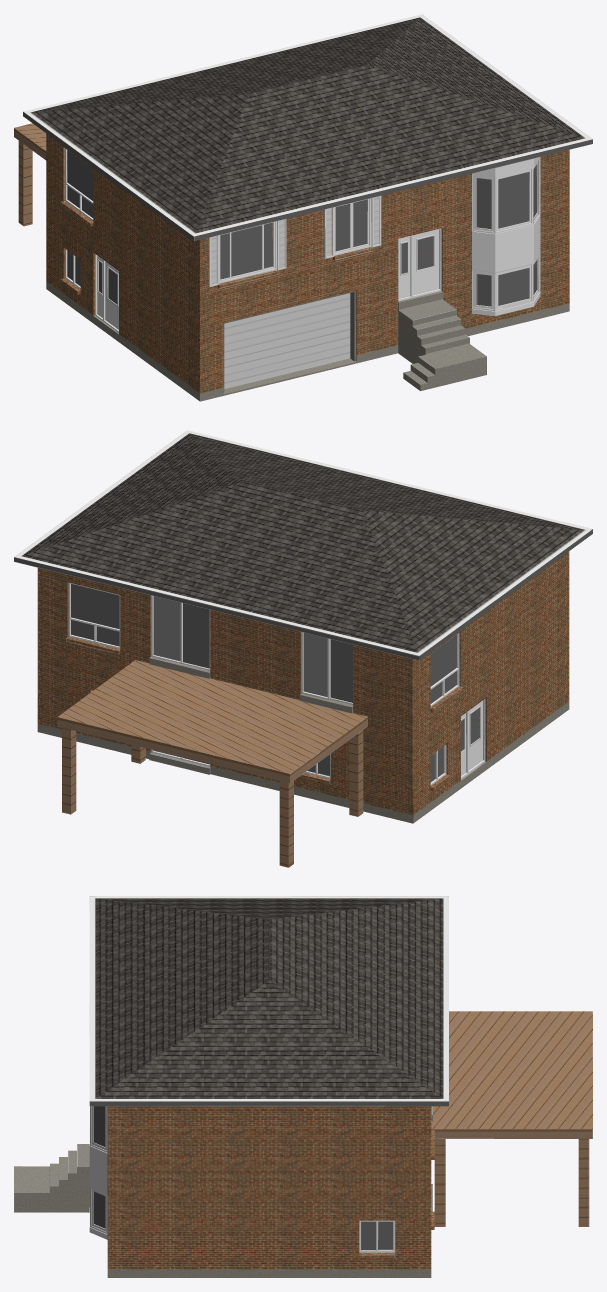
The model's file is Residential House 09.fbx.
3 views of the same model, one above another, from view 1: azimuth 30°, elevation 25°; view 2: azimuth 150°, elevation 25°; view 3: azimuth 270°, elevation 25° (orthographic). The views are drawn at different scales.
Parts seen in each view (by area): view 1: Residential_House_09_LOD0; view 2: Residential_House_09_LOD0; view 3: Residential_House_09_LOD0.
Boxes of the visible parts, left/top/right/bottom form: Residential_House_09_LOD0: left=14, top=14, right=592, bottom=401; Residential_House_09_LOD0: left=14, top=430, right=592, bottom=867; Residential_House_09_LOD0: left=14, top=896, right=592, bottom=1277.
Size of what is drawn, in the model's own units: 1350 by 715 by 1610.
Materials: 1 (1 with a texture image).
